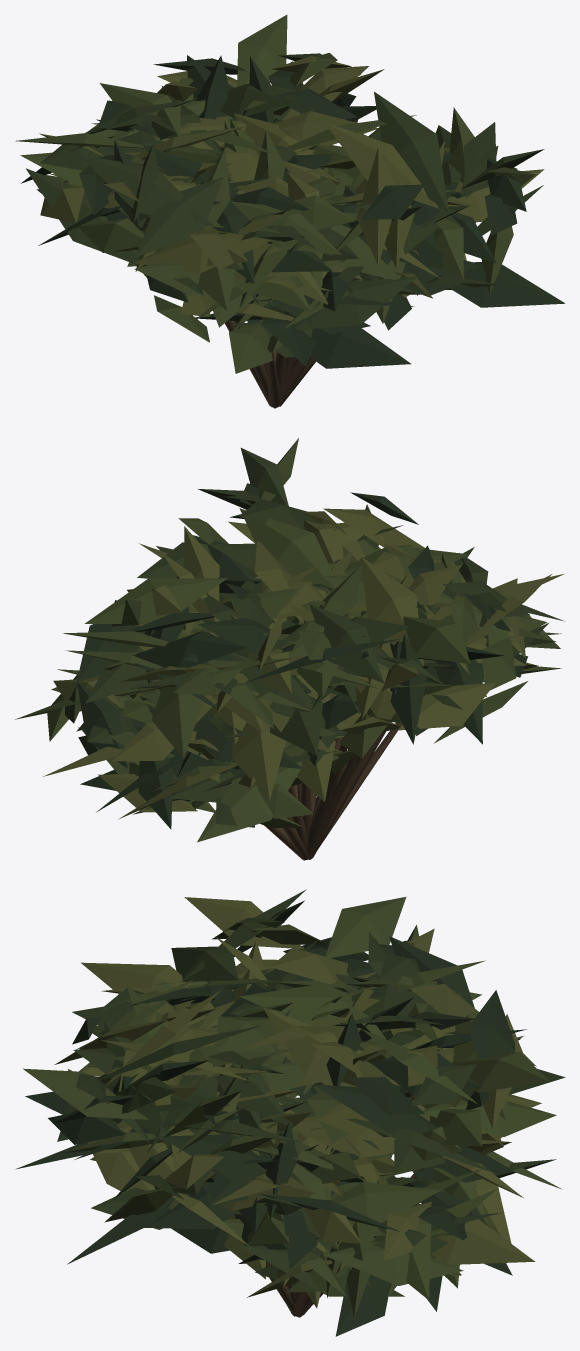
File: noir-shrub.glb
The picture shows the model from 3 angles, top to bottom: view 1: azimuth 30°, elevation 25°; view 2: azimuth 150°, elevation 25°; view 3: azimuth 270°, elevation 25°; orthographic projection. The views are drawn at different scales.
Parts seen in each view (by area): view 1: foliage-0.004, bark.004; view 2: foliage-0.004, bark.004; view 3: foliage-0.004, bark.004.
Boxes of the visible parts, <box> form: foliage-0.004: <box>15,15,565,373</box>; bark.004: <box>224,273,360,408</box>; foliage-0.004: <box>15,438,565,842</box>; bark.004: <box>264,722,401,860</box>; foliage-0.004: <box>15,889,565,1336</box>; bark.004: <box>266,1094,423,1317</box>.
Bounding box in the file's own units: 1.36 × 0.9004 × 1.35.
